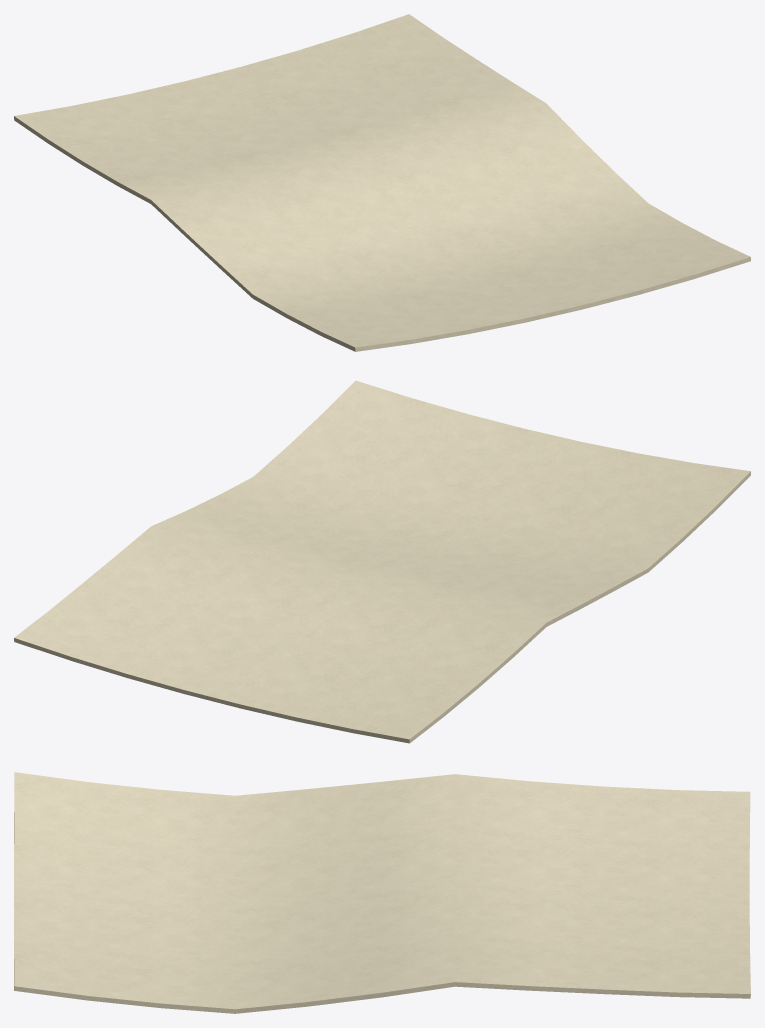
The model's file is Lettre.glb.
3 renders of one model, top to bottom at view 1: azimuth 30°, elevation 25°; view 2: azimuth 150°, elevation 25°; view 3: azimuth 270°, elevation 25°, orthographic. The views are drawn at different scales.
Parts seen in each view (by area): view 1: Lettre; view 2: Lettre; view 3: Lettre.
Boxes of the visible parts, x1,y1,x2,y2 form: Lettre: (14, 14, 750, 351); Lettre: (14, 380, 750, 743); Lettre: (14, 772, 750, 1013).
Size of the model in its own units: 2 by 0.1834 by 3.
1 material, 1 textured.
